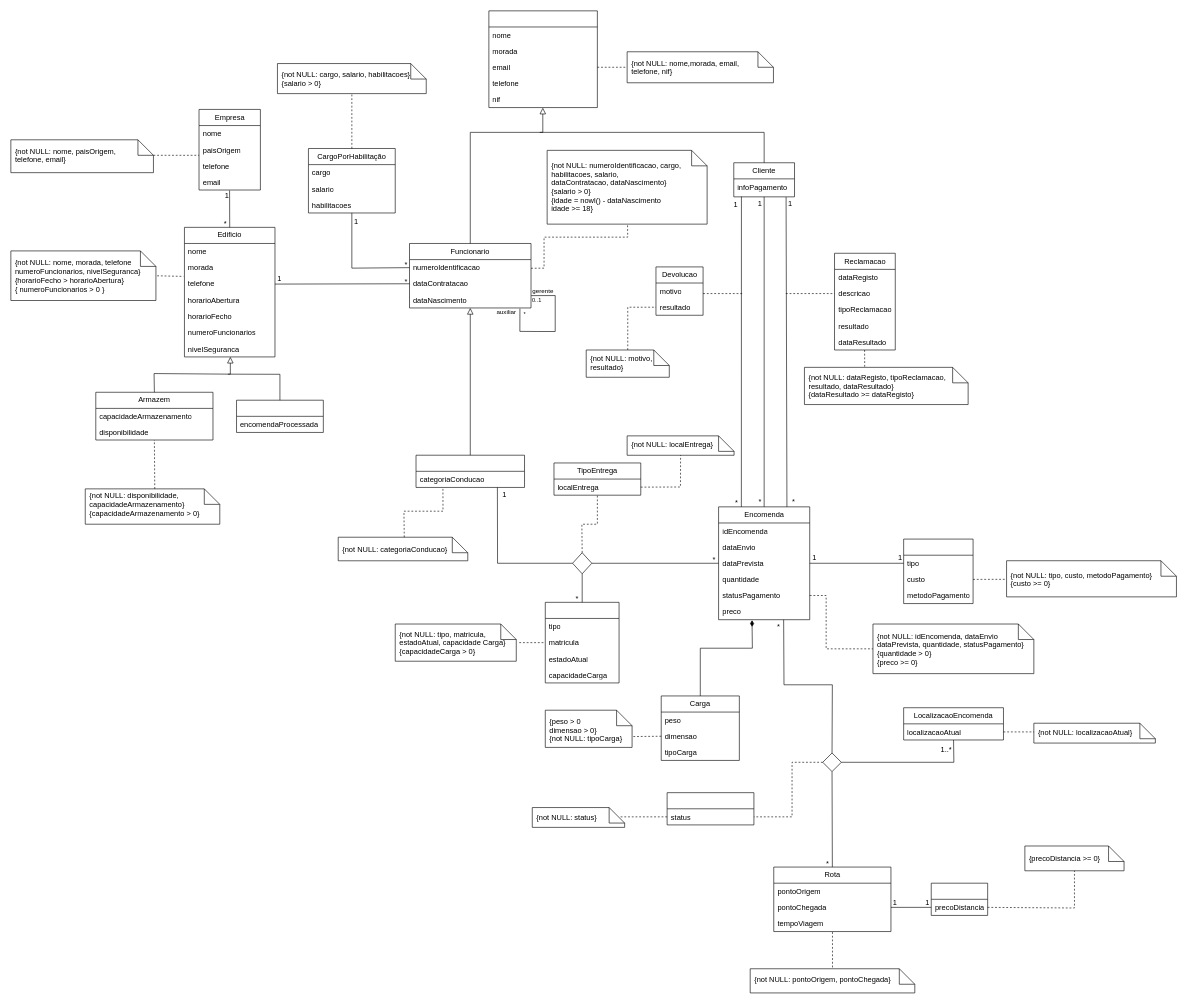
This 1202x1004 diagram has some shape labels left out. The box of each missing label's shape, as (x1, y1, x2, y2) in pixels:
Envio: (903, 538, 973, 604)
Loja: (236, 400, 323, 432)
Motorista: (415, 455, 525, 487)
Pessoa: (488, 10, 597, 108)
ServicoRastreamento: (666, 792, 754, 825)
Tarifa: (931, 883, 988, 915)
Veiculo: (545, 602, 619, 683)
